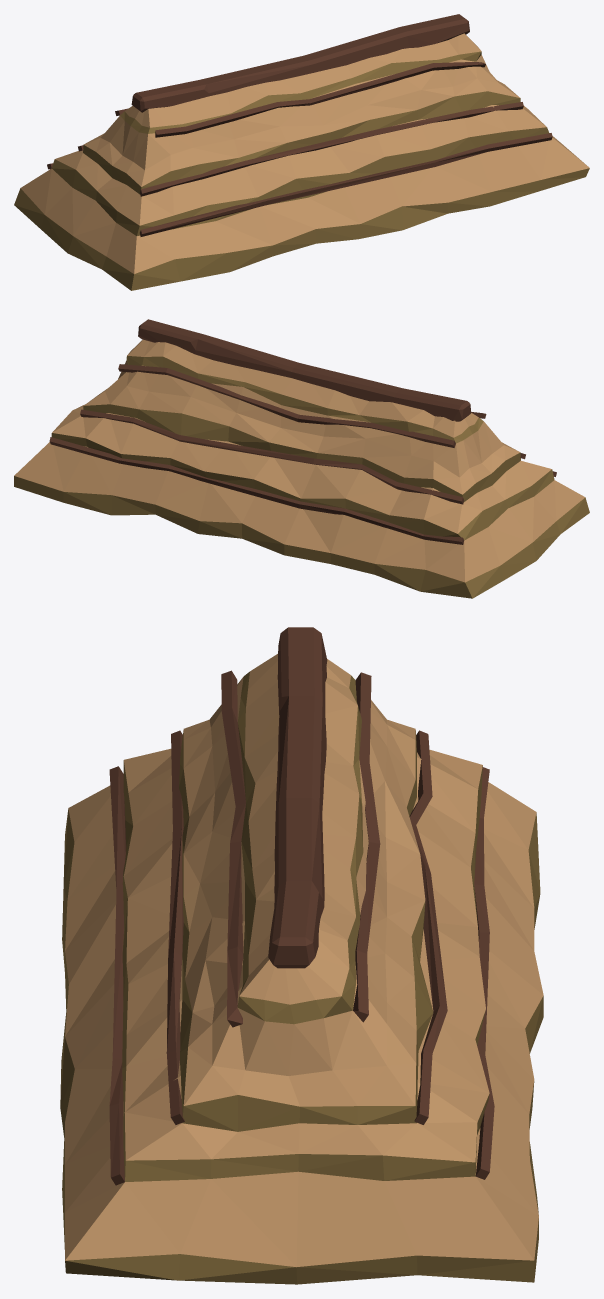
The model's file is Roof_2_1 Asia.fbx.
The picture shows the model from 3 angles, top to bottom: view 1: azimuth 30°, elevation 25°; view 2: azimuth 150°, elevation 25°; view 3: azimuth 270°, elevation 25°; orthographic projection. The views are drawn at different scales.
Parts seen in each view (by area): view 1: Roof_2_1; view 2: Roof_2_1; view 3: Roof_2_1.
Boxes of the visible parts, left/top/right/bottom form: Roof_2_1: left=14, top=14, right=589, bottom=290; Roof_2_1: left=14, top=319, right=589, bottom=598; Roof_2_1: left=60, top=627, right=543, bottom=1284.
Bounding box in the file's own units: 10.88 × 3.17 × 4.86.
